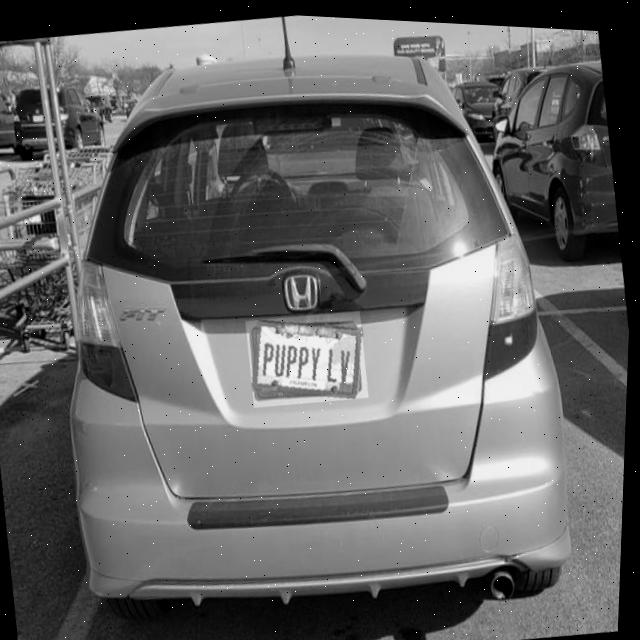LicensePlate: (256, 317, 365, 395)
